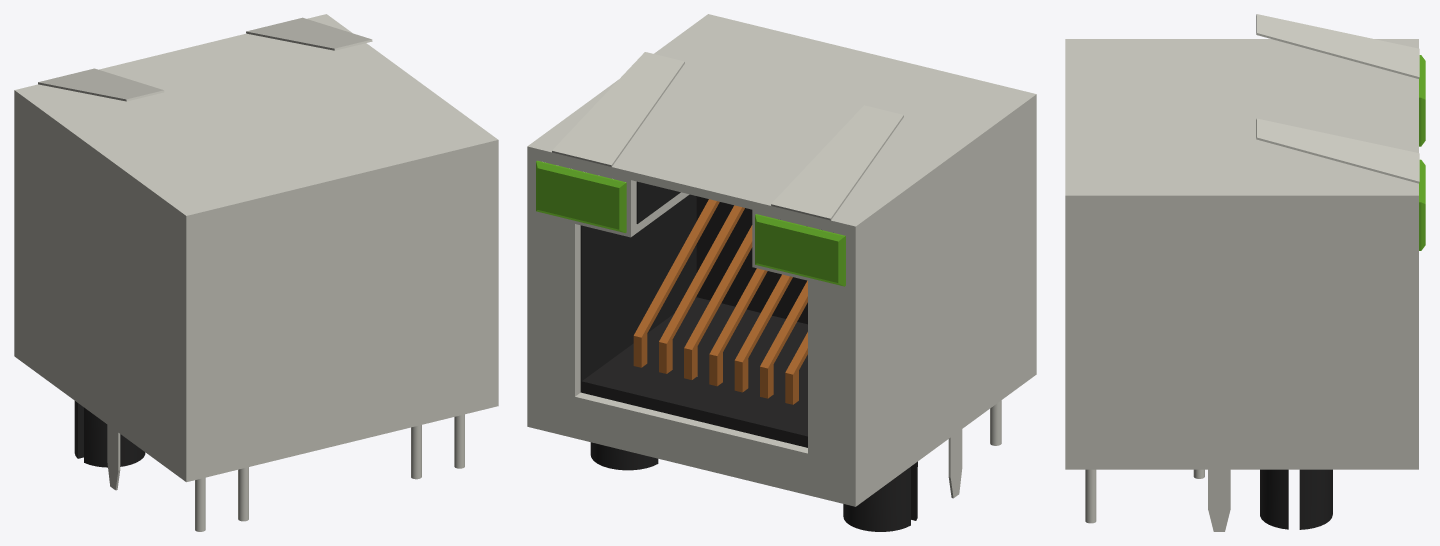
Rendered from kc-rj45_amphenol_rjhse538x.glb.
The picture shows the model from 3 angles, left to right: view 1: azimuth 30°, elevation 25°; view 2: azimuth 150°, elevation 25°; view 3: azimuth 270°, elevation 25°; orthographic projection. The views are drawn at different scales.
Visible parts, largest first — view 1: 0.6666666666666666_0.6666666666666666_0.5833333333333334_0.8, 0_0_0_0; view 2: 0.6666666666666666_0.6666666666666666_0.5833333333333334_0.8, 0_0_0_0, 0.5_0.16666666666666666_0_0, 0.16666666666666666_0.4166666666666667_0_0; view 3: 0.6666666666666666_0.6666666666666666_0.5833333333333334_0.8, 0_0_0_0, 0.16666666666666666_0.4166666666666667_0_0.
Boxes of the visible parts, x1,y1,x2,y2 form: 0.6666666666666666_0.6666666666666666_0.5833333333333334_0.8: (14, 14, 498, 531); 0_0_0_0: (74, 401, 145, 467); 0.6666666666666666_0.6666666666666666_0.5833333333333334_0.8: (527, 14, 1036, 506); 0_0_0_0: (580, 181, 917, 531); 0.5_0.16666666666666666_0_0: (633, 199, 807, 404); 0.16666666666666666_0.4166666666666667_0_0: (536, 160, 845, 286); 0.6666666666666666_0.6666666666666666_0.5833333333333334_0.8: (1065, 14, 1419, 531); 0_0_0_0: (1260, 469, 1332, 529); 0.16666666666666666_0.4166666666666667_0_0: (1419, 55, 1425, 250).
Size of the model in its own units: 1.65 by 1.87 by 1.6.
